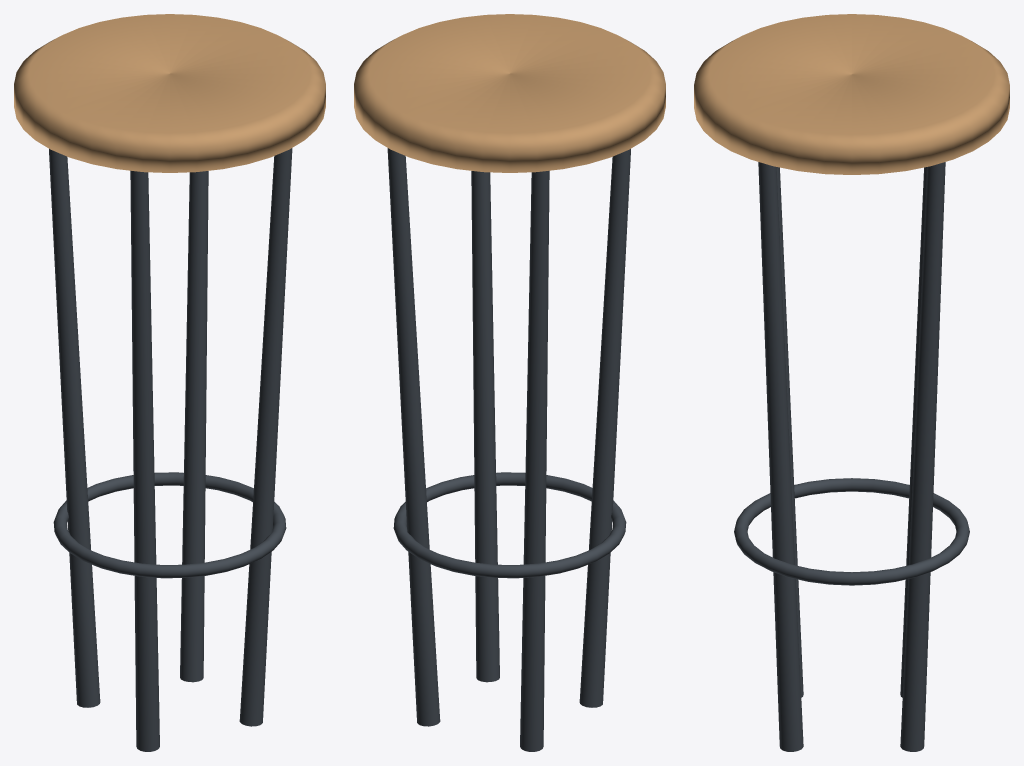
The model's file is barstool.glb.
3 renders of one model, left to right at view 1: azimuth 30°, elevation 25°; view 2: azimuth 150°, elevation 25°; view 3: azimuth 270°, elevation 25°, orthographic.
Visible parts, largest first — view 1: material-0-leg, material-1-top; view 2: material-0-leg, material-1-top; view 3: material-1-top, material-0-leg.
Part boxes in pixels (bbox=[...]): material-0-leg: bbox=[49, 148, 292, 751]; material-1-top: bbox=[14, 14, 325, 172]; material-0-leg: bbox=[387, 148, 630, 751]; material-1-top: bbox=[354, 14, 665, 172]; material-1-top: bbox=[694, 14, 1009, 174]; material-0-leg: bbox=[734, 162, 969, 751].
Size of the model in its own units: 0.42 by 0.95 by 0.42.
